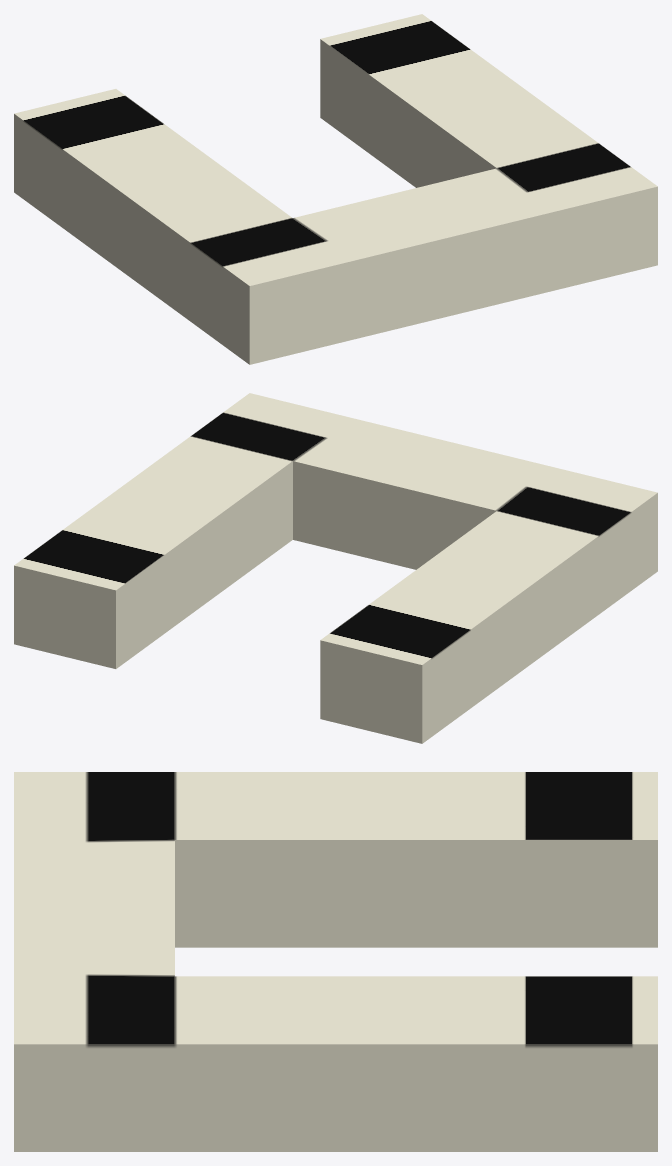
The model's file is Recepcion (Con FBX).fbx.
3 views of the same model, one above another, from view 1: azimuth 30°, elevation 25°; view 2: azimuth 150°, elevation 25°; view 3: azimuth 270°, elevation 25° (orthographic). The views are drawn at different scales.
Parts seen in each view (by area): view 1: pasted__pCube3; view 2: pasted__pCube3; view 3: pasted__pCube3.
Part boxes in pixels (bbox=[...]): pasted__pCube3: bbox=[14, 14, 657, 364]; pasted__pCube3: bbox=[14, 393, 657, 743]; pasted__pCube3: bbox=[14, 772, 657, 1151].
Size of the model in its own units: 6 by 1.11 by 6.
